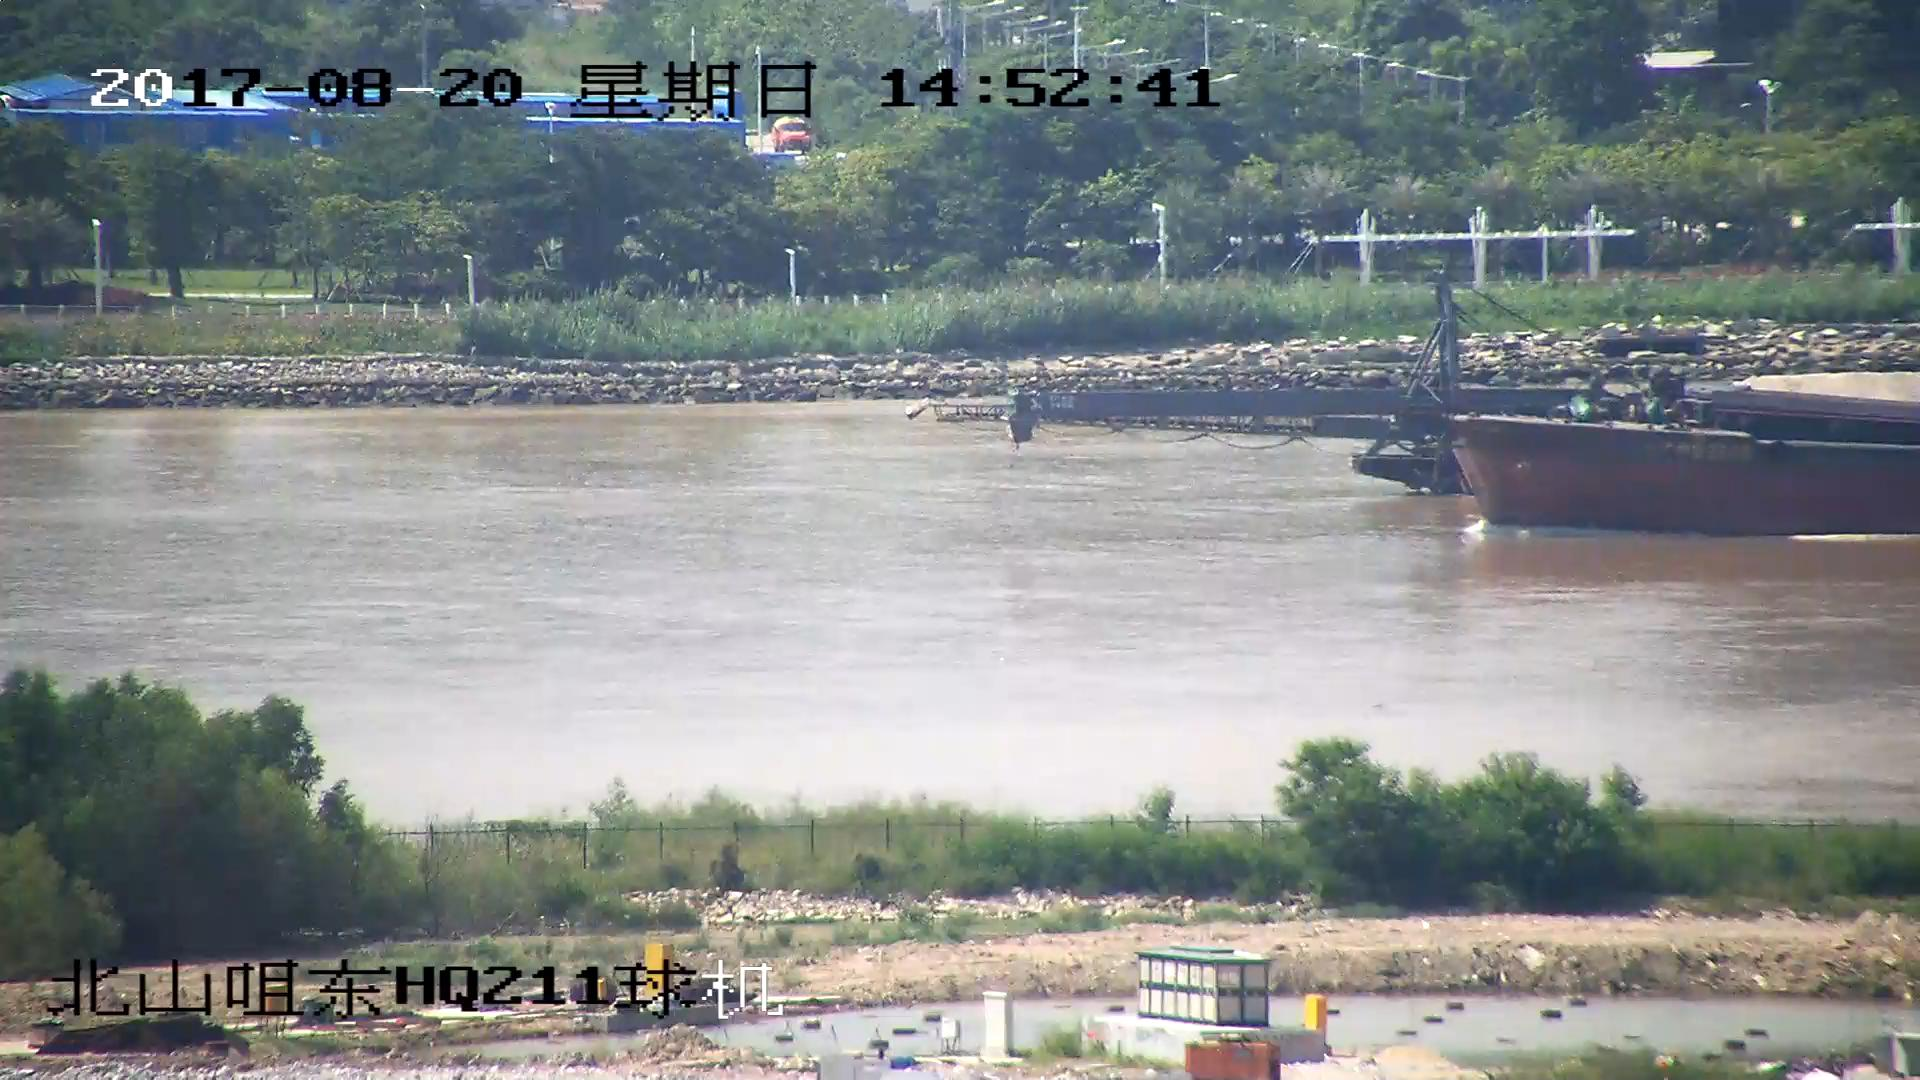bulk cargo carrier: (931, 271, 1920, 537)
ore carrier: (953, 361, 1920, 491)
